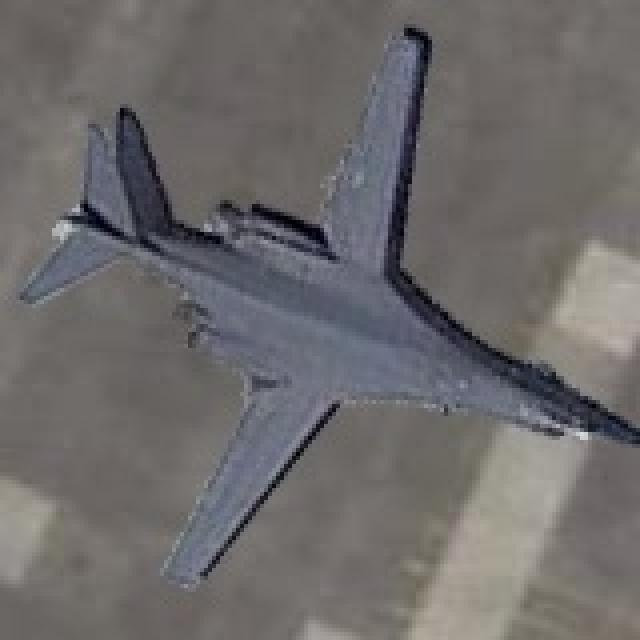B-1_TopDown: (16, 20, 636, 592)
